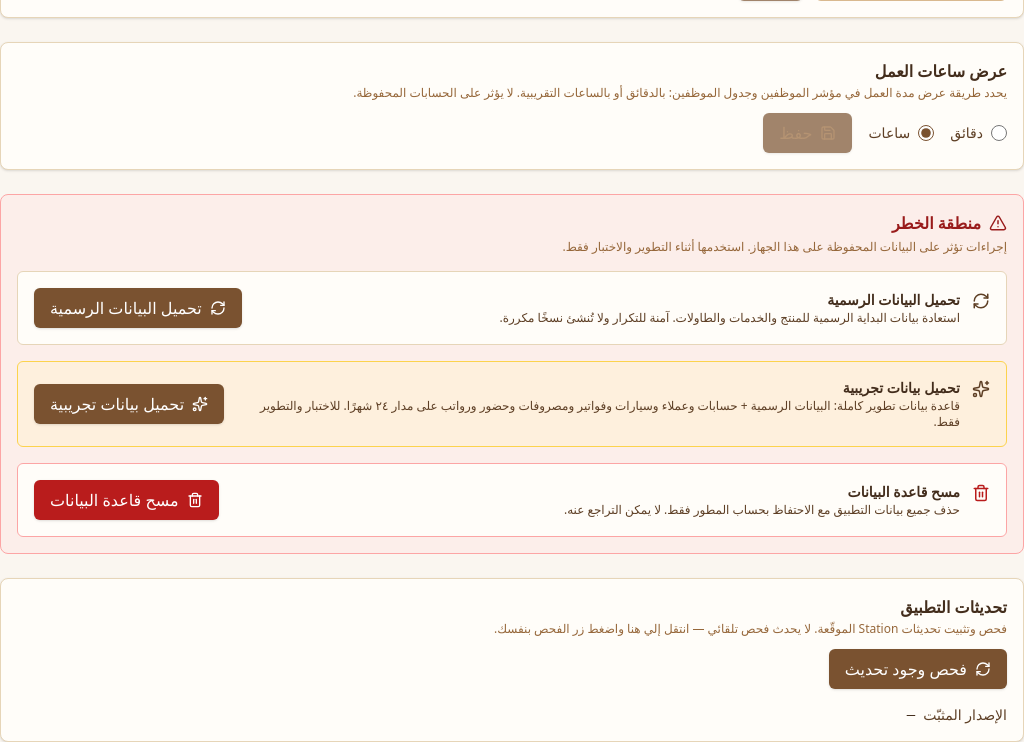
DevSettingsPage › describes the real scope of the reset and requires confirmation
The image size is (1024, 742).
(page scrolled)
Note: Nothing destructive happens on the first click.
Click the button "مسح قاعدة البيانات": (126, 500) [34, 480, 219, 520]
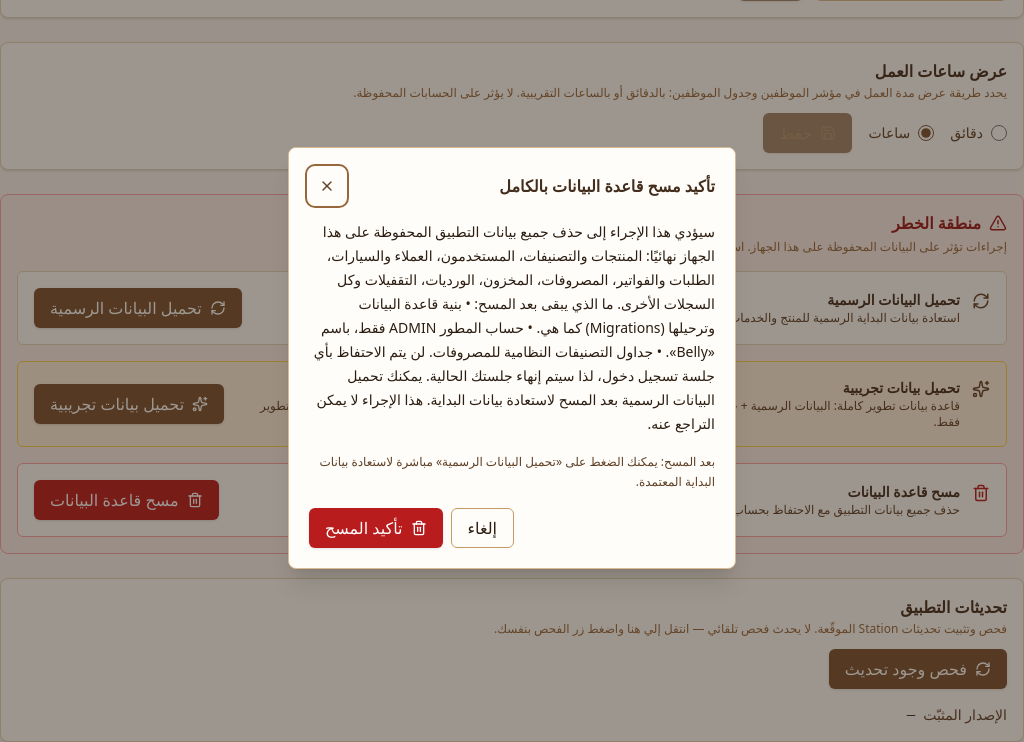
Expected: the text "لا يمكن التراجع عنه" is shown, [314, 222, 715, 433]
Note: Cancelling must not clear anything.
Click the button "إلغاء": (482, 528) [450, 508, 514, 548]
(page scrolled)
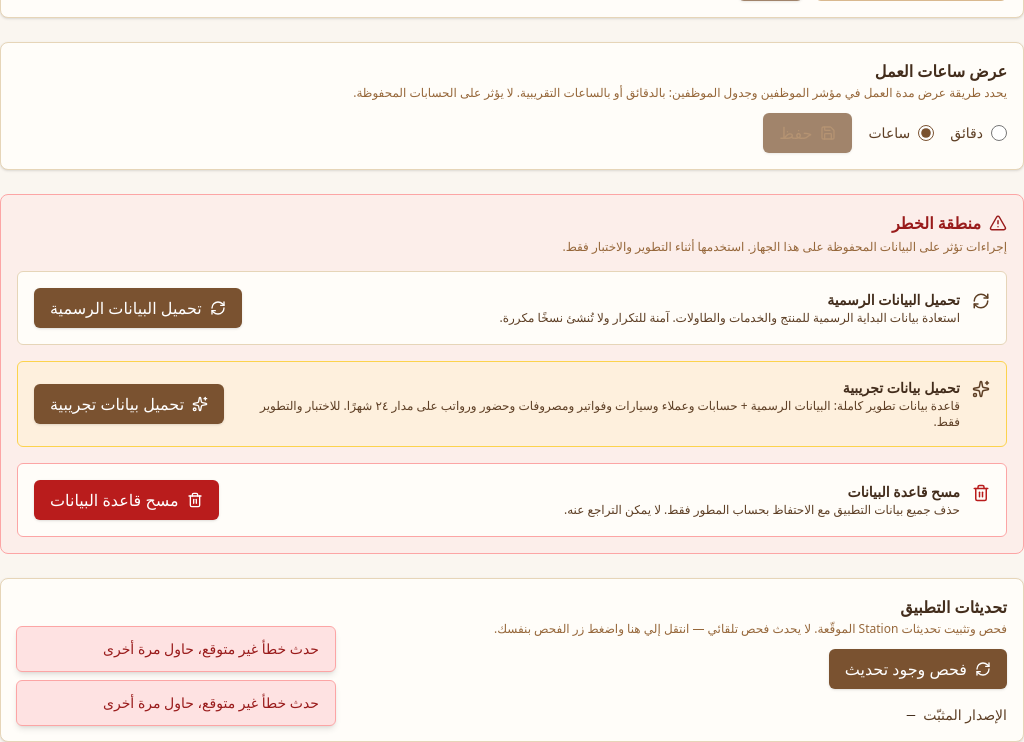
Expected: the dialog is gone
